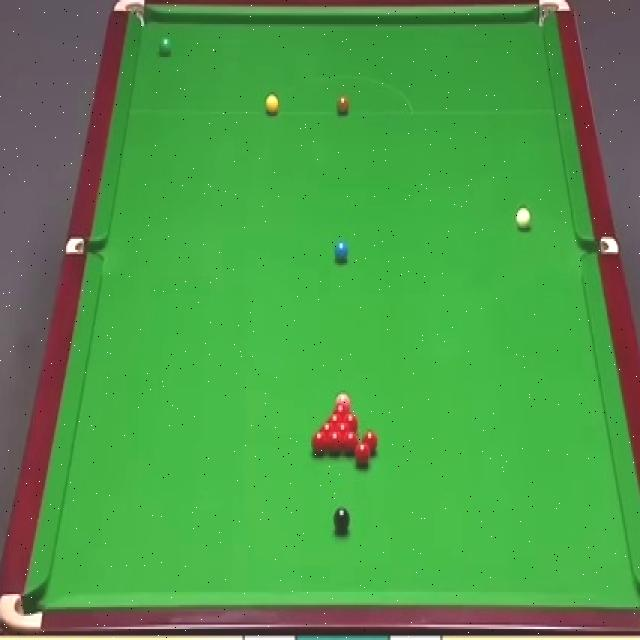black-ball: (333, 507, 350, 537)
blue-ball: (332, 240, 349, 266)
brown-ball: (335, 92, 350, 117)
green-ball: (158, 36, 172, 57)
pink-ball: (336, 391, 350, 407)
red-ball: (363, 429, 379, 457), (354, 441, 371, 466), (326, 430, 342, 456), (343, 430, 358, 457), (311, 432, 326, 457), (344, 412, 359, 429), (334, 420, 352, 432), (327, 411, 345, 423), (319, 420, 335, 431), (334, 404, 351, 414)
white-ball: (514, 203, 534, 233)
yellow-ball: (265, 91, 280, 117)
